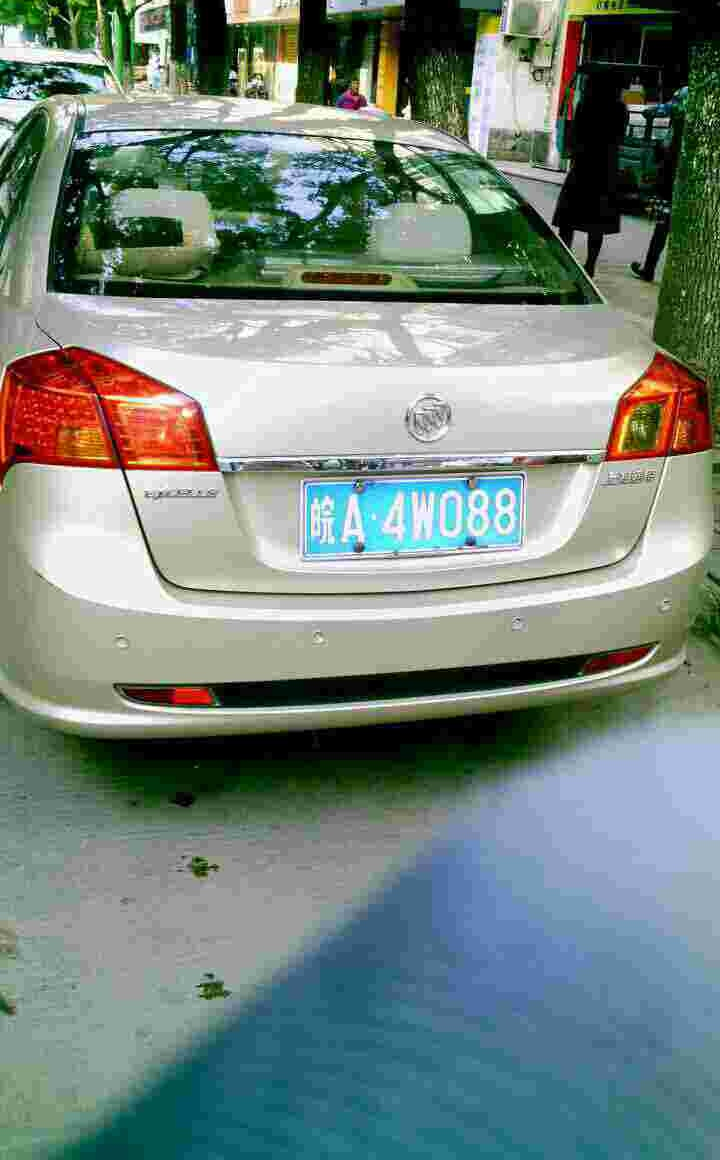license_plate: (310, 478, 521, 556)
